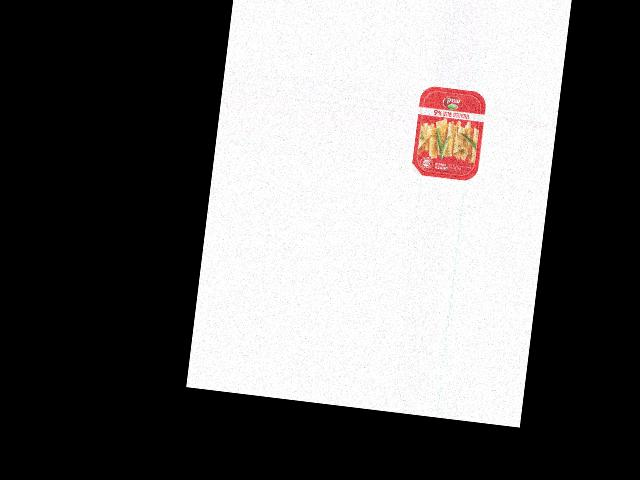cheese: (411, 84, 488, 182)
